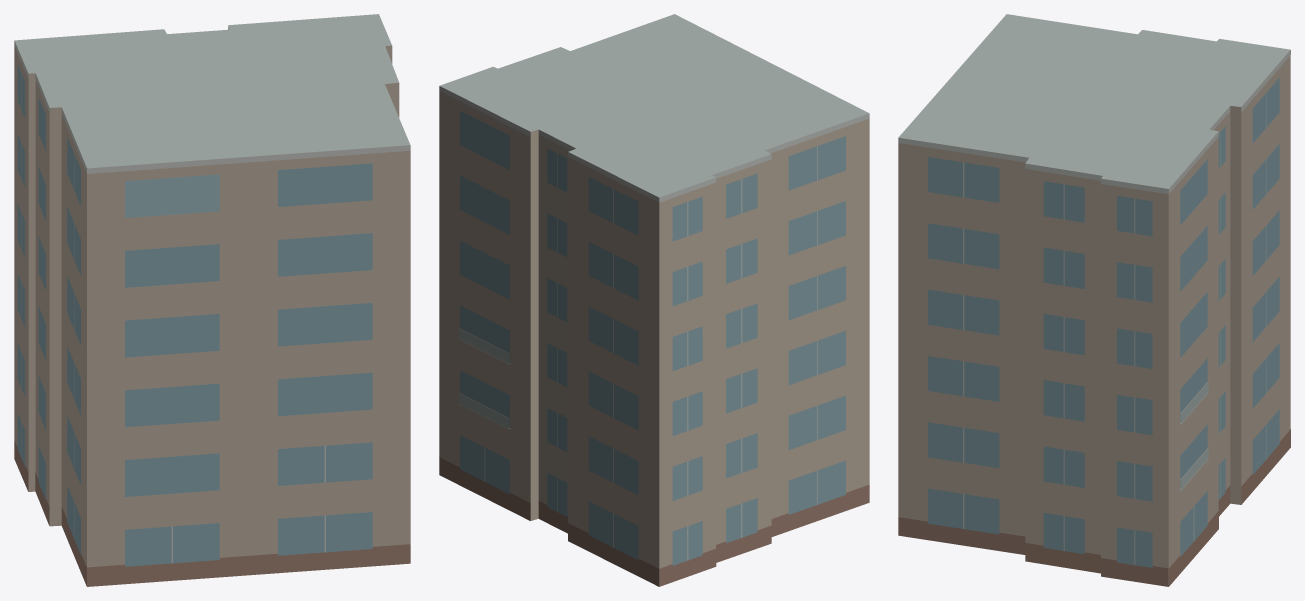
The model's file is survey-upis-32780190.glb.
3 views of the same model, side by side, from view 1: azimuth 30°, elevation 25°; view 2: azimuth 150°, elevation 25°; view 3: azimuth 270°, elevation 25° (orthographic). The views are drawn at different scales.
Visible parts, largest first — view 1: survey-upis-32780190.tmp; view 2: survey-upis-32780190.tmp; view 3: survey-upis-32780190.tmp.
Part boxes in pixels (left/top/right/bottom): survey-upis-32780190.tmp: left=14, top=14, right=410, bottom=586; survey-upis-32780190.tmp: left=439, top=14, right=869, bottom=586; survey-upis-32780190.tmp: left=898, top=14, right=1290, bottom=586.
Size of the model in its own units: 17.27 by 18.3 by 16.37.
